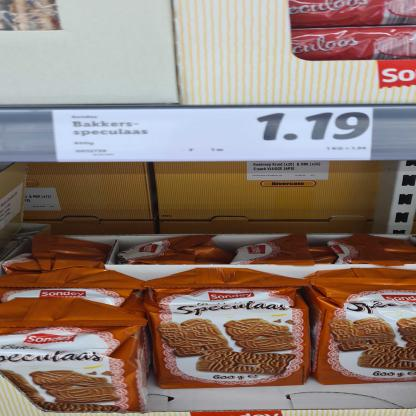prtg: (53, 108, 374, 163)
